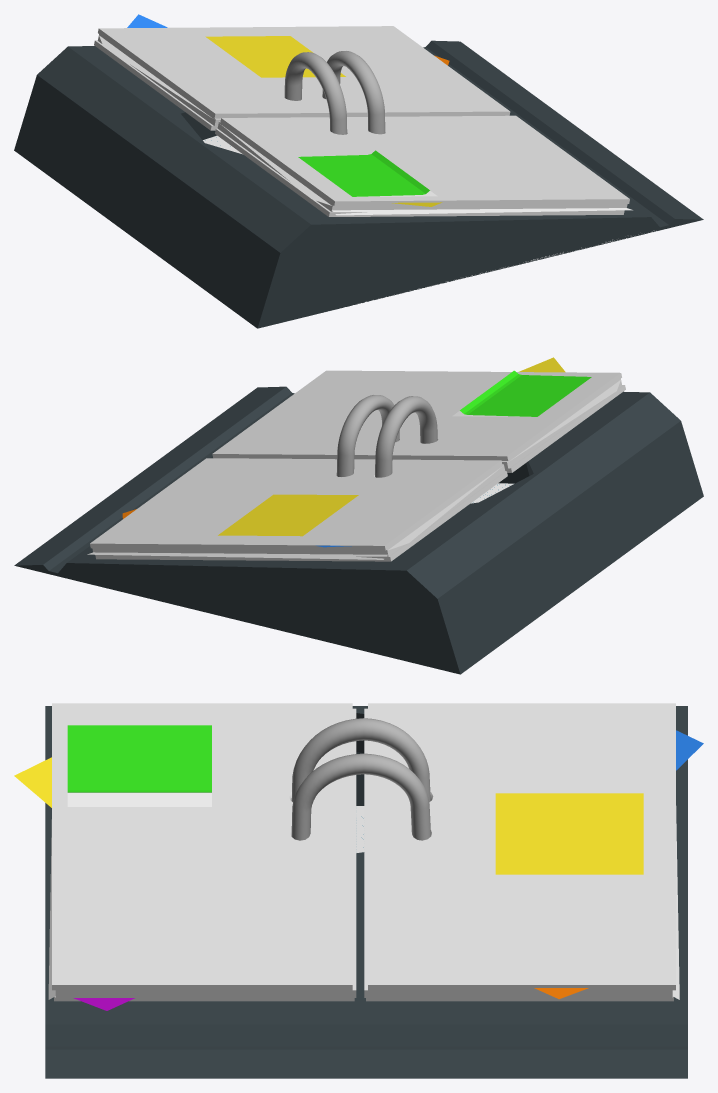
The model's file is Agenda_ThiagoB_46645966.fbx.
The picture shows the model from 3 angles, top to bottom: view 1: azimuth 30°, elevation 25°; view 2: azimuth 150°, elevation 25°; view 3: azimuth 270°, elevation 25°; orthographic projection. The views are drawn at different scales.
Parts seen in each view (by area): view 1: Anotador(Cuerpo), Hoja1, Hoja1.001, Aro1, Aro2; view 2: Anotador(Cuerpo), Hoja1.001, Hoja1, Aro1, Aro2; view 3: Hoja1.001, Hoja1, Anotador(Cuerpo), Aro2, Aro1.
Boxes of the visible parts, x1,y1,x2,y2 form: Anotador(Cuerpo): (14,40,703,328); Hoja1: (215,115,632,216); Hoja1.001: (94,14,510,130); Aro1: (284,52,347,134); Aro2: (322,51,385,134); Anotador(Cuerpo): (14,386,703,674); Hoja1.001: (87,458,507,561); Hoja1: (212,357,625,472); Aro1: (375,396,437,477); Aro2: (336,395,399,476); Hoja1.001: (364,703,703,1001); Hoja1: (14,703,356,1010); Anotador(Cuerpo): (45,706,687,1078); Aro2: (291,753,430,840); Aro1: (291,718,430,802).
Bounding box in the file's own units: 450 × 136 × 456.
Materials: 1 (1 with a texture image).
